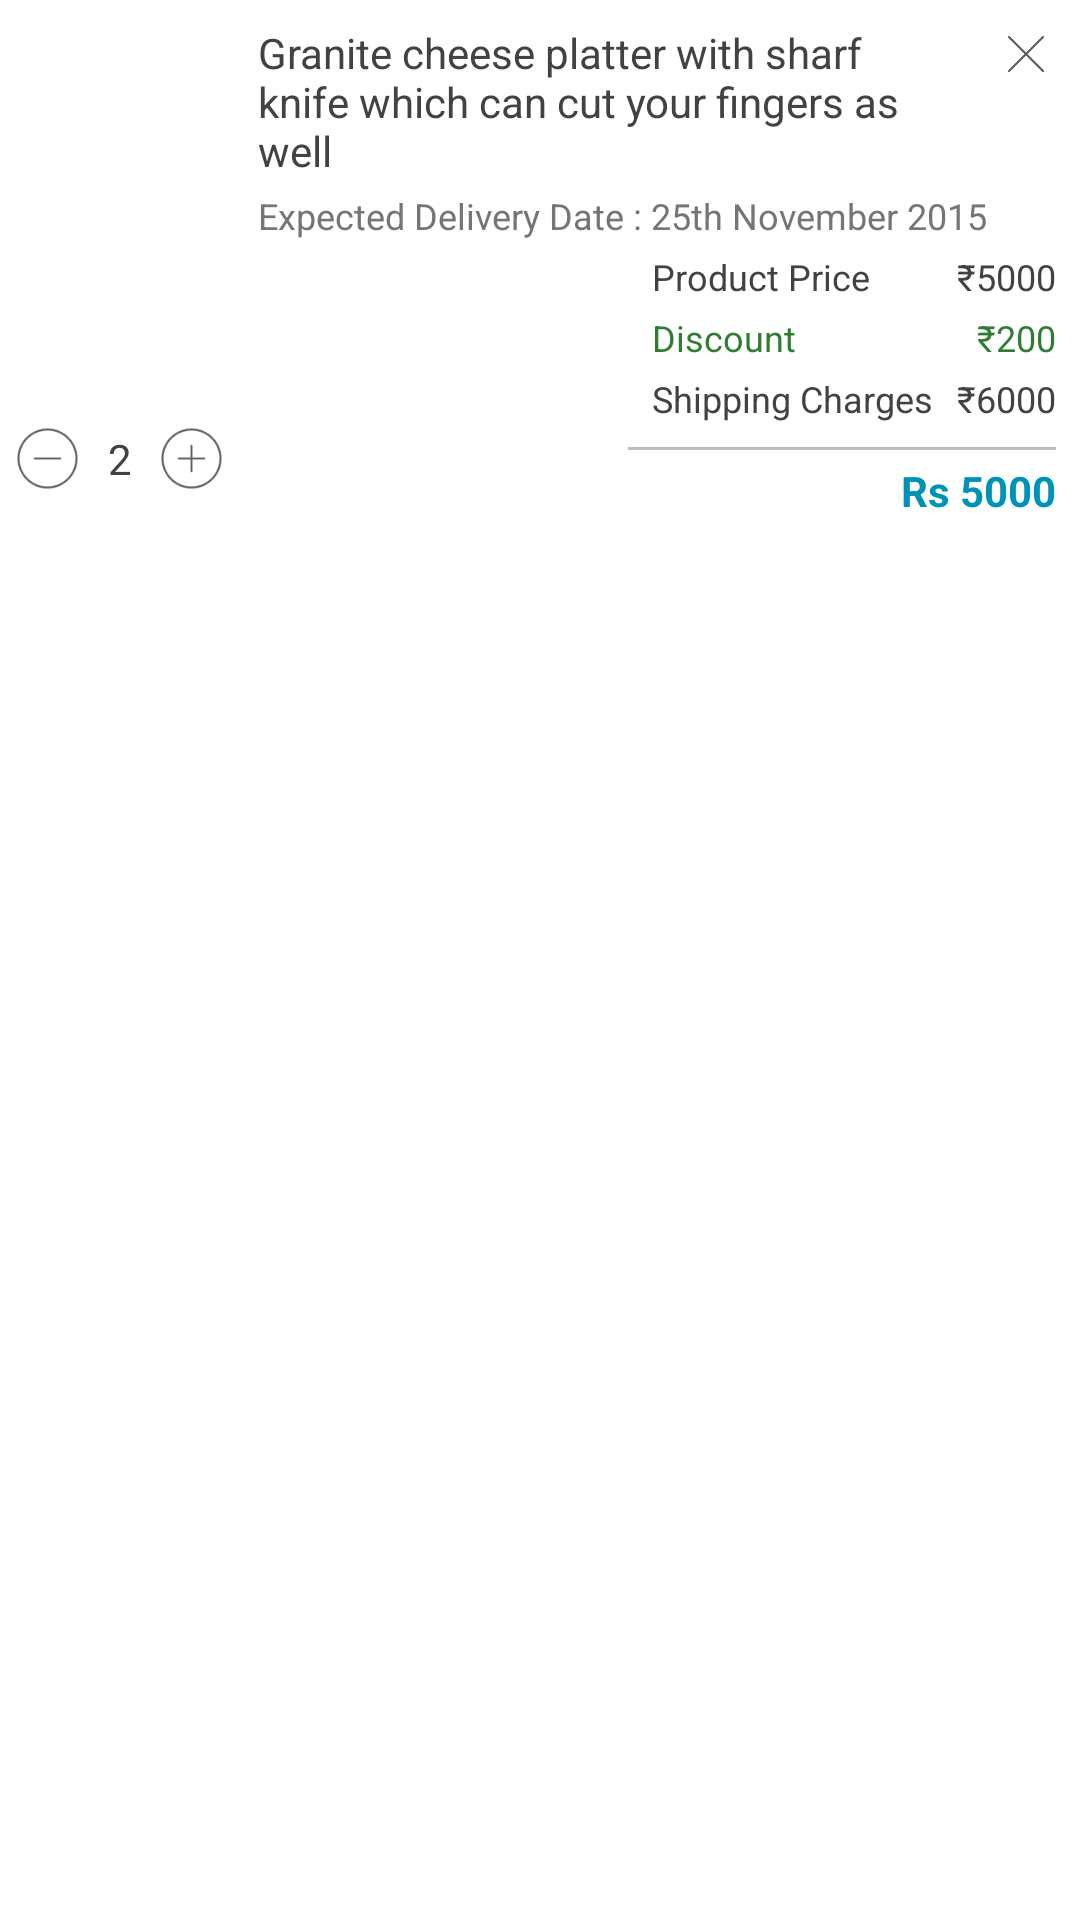

Icon bounding boxes for this 1080px x 1920px phone screenshot, format bbox=(x1, y1, x2, y2):
add: bbox=(161, 428, 222, 489)
cross: bbox=(1008, 36, 1044, 72)
minus: bbox=(17, 428, 78, 489)
